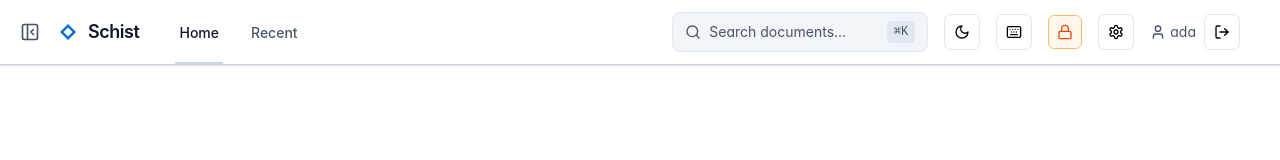
Navigation › unlocks secrets with a passkey from the lock button
What coordinates should you click on to do the following:
click the button with test id "quick-unlock-button"
I would click on:
 (1065, 32)
Its box is [1048,15,1082,49].
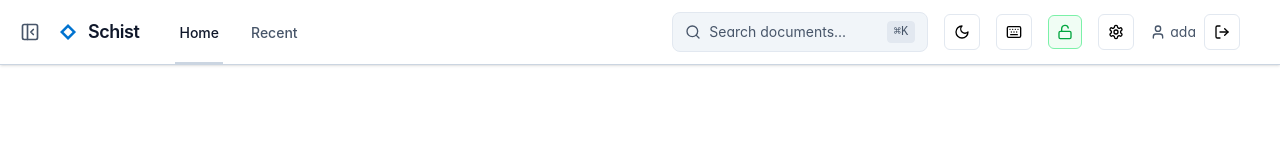
Result: the element with test id "secrets-unlocked-indicator" is shown at [1048,15,1082,49]
